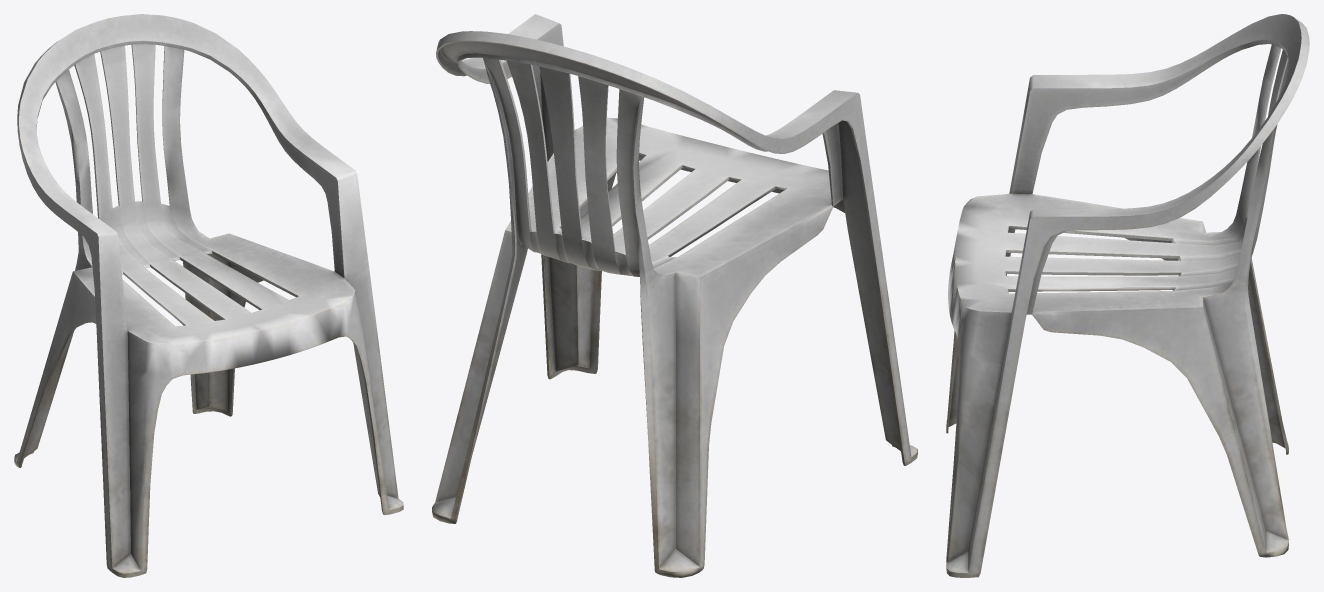
File: plastic_monobloc_chair_01.glb
3 views of the same model, side by side, from view 1: azimuth 30°, elevation 25°; view 2: azimuth 150°, elevation 25°; view 3: azimuth 270°, elevation 25° (orthographic). The views are drawn at different scales.
Parts seen in each view (by area): view 1: plastic_monobloc_chair_01; view 2: plastic_monobloc_chair_01; view 3: plastic_monobloc_chair_01.
Part boxes in pixels (x1=…): plastic_monobloc_chair_01: x1=14, y1=14, x2=403, y2=577; plastic_monobloc_chair_01: x1=432, y1=14, x2=917, y2=577; plastic_monobloc_chair_01: x1=946, y1=14, x2=1309, y2=577.
Size of the model in its own units: 0.6419 by 0.8798 by 0.6276.
Materials: 1 (1 with a texture image).
